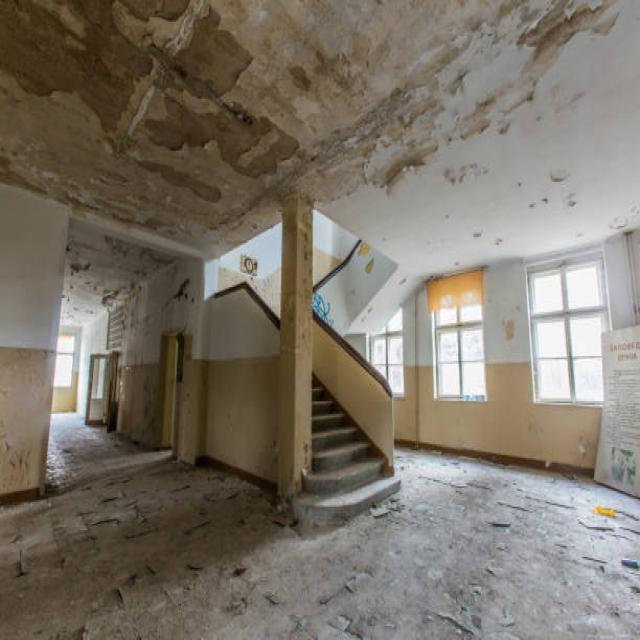floor: (0, 412, 640, 640)
wall: (393, 259, 602, 470), (77, 261, 204, 463), (0, 183, 72, 504), (206, 289, 280, 486), (312, 321, 394, 473), (277, 193, 297, 511), (217, 222, 282, 318), (294, 193, 314, 495), (343, 238, 398, 326), (195, 261, 218, 463), (603, 234, 639, 331), (51, 325, 82, 414), (313, 261, 349, 334), (314, 209, 343, 286), (344, 334, 367, 361), (241, 256, 258, 275)
